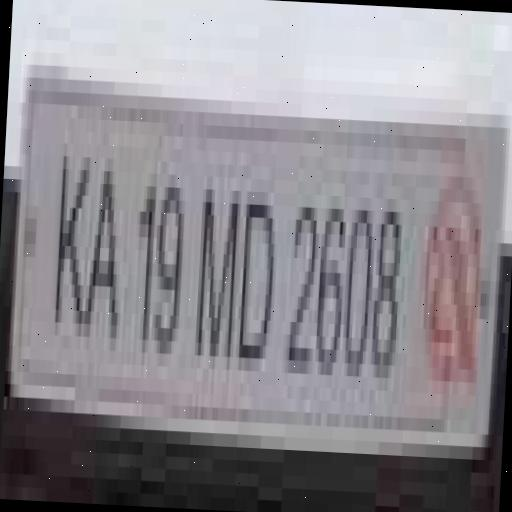number plate: (0, 38, 496, 472)
